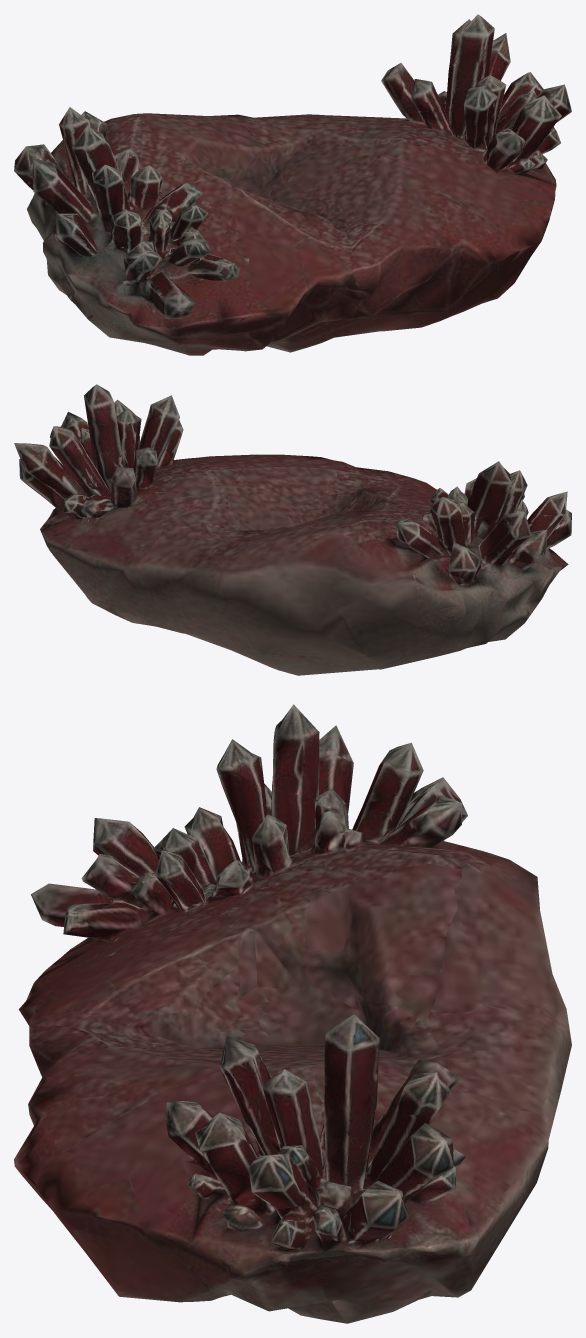
The model's file is poCrystalIslandB.ba529b43.glb.
The picture shows the model from 3 angles, top to bottom: view 1: azimuth 30°, elevation 25°; view 2: azimuth 150°, elevation 25°; view 3: azimuth 270°, elevation 25°; orthographic projection. The views are drawn at different scales.
Bounding box in the file's own units: 1.87 × 0.9204 × 1.12.
1 material, 1 textured.
